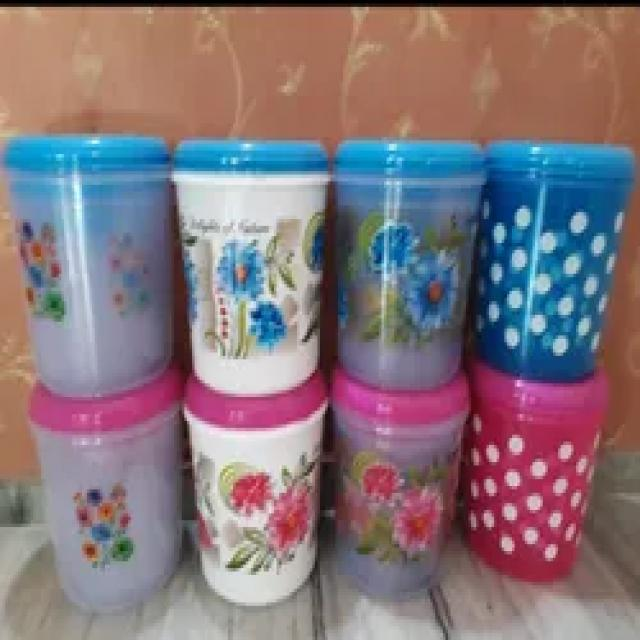plastic_box: (0, 122, 181, 414), (162, 119, 324, 395), (324, 96, 460, 397), (28, 348, 186, 604), (183, 355, 338, 596), (482, 102, 611, 371), (333, 353, 471, 596), (470, 350, 596, 580)
